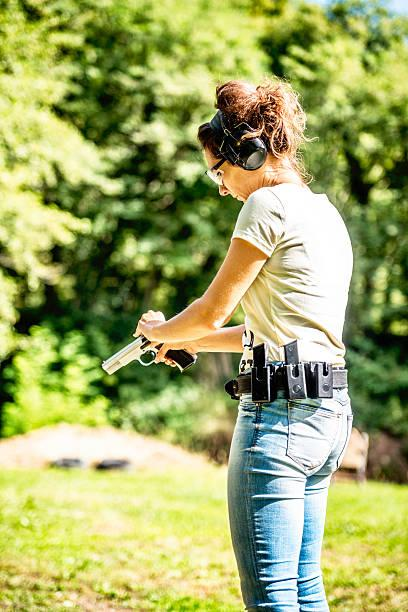weapon: (99, 325, 197, 379)
